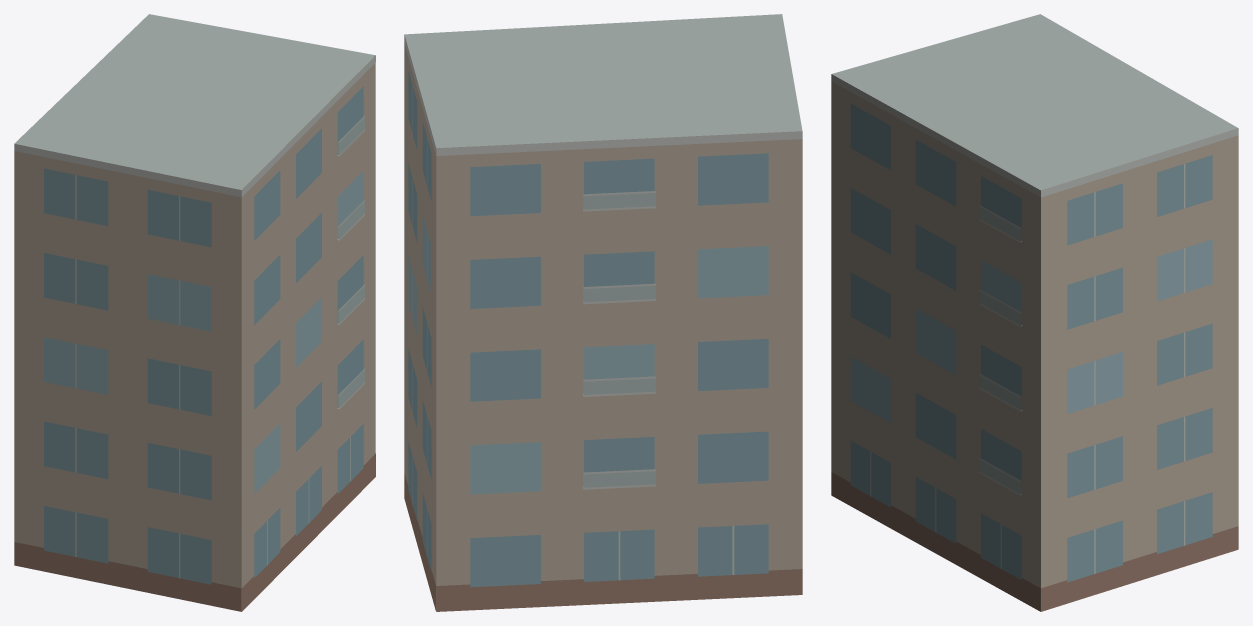
The model's file is survey-upis-32458158.glb.
The picture shows the model from 3 angles, left to right: view 1: azimuth 30°, elevation 25°; view 2: azimuth 150°, elevation 25°; view 3: azimuth 270°, elevation 25°; orthographic projection. The views are drawn at different scales.
Parts seen in each view (by area): view 1: survey-upis-32458158.tmp; view 2: survey-upis-32458158.tmp; view 3: survey-upis-32458158.tmp.
Part boxes in pixels (box(x1,y1,x2,y2)): survey-upis-32458158.tmp: box(14, 14, 375, 611); survey-upis-32458158.tmp: box(404, 14, 802, 611); survey-upis-32458158.tmp: box(831, 14, 1238, 611).
Bounding box in the file's own units: 12.94 × 14.4 × 12.62.
